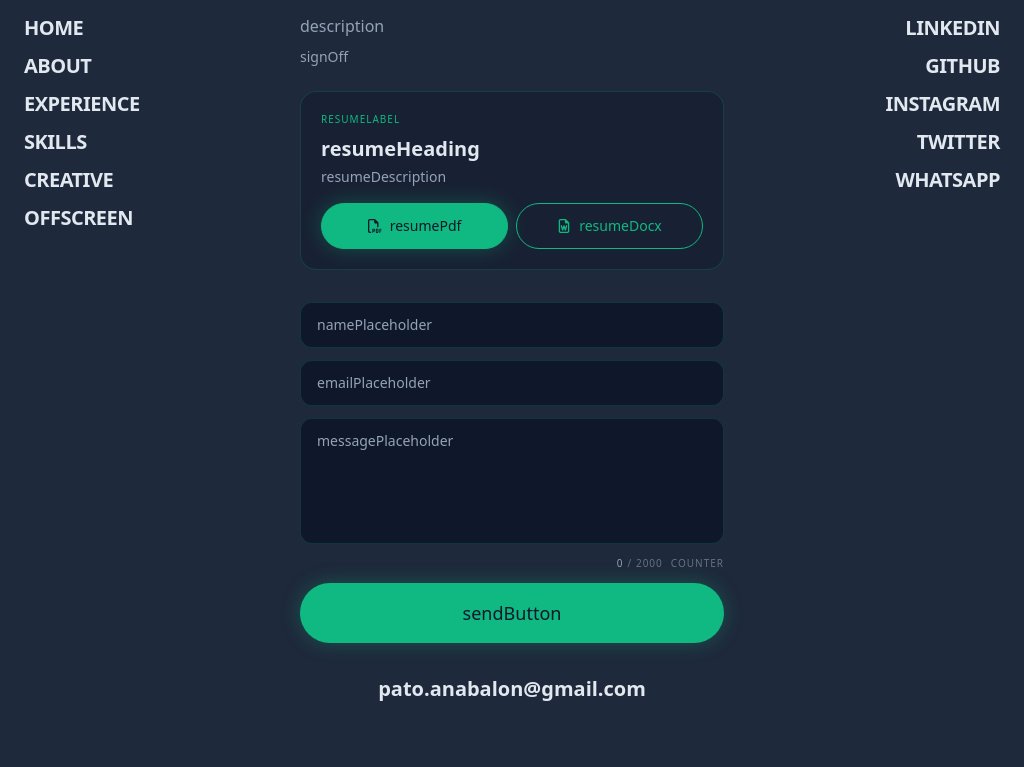
Test: ContactSection › should clear inline errors when the user starts editing the fields again
This screenshot has width=1024, height=767.
(page scrolled)
Step 1. Type "invalid" into the field with test id "contact-input-email" → (512, 383), box [300,360,724,406]
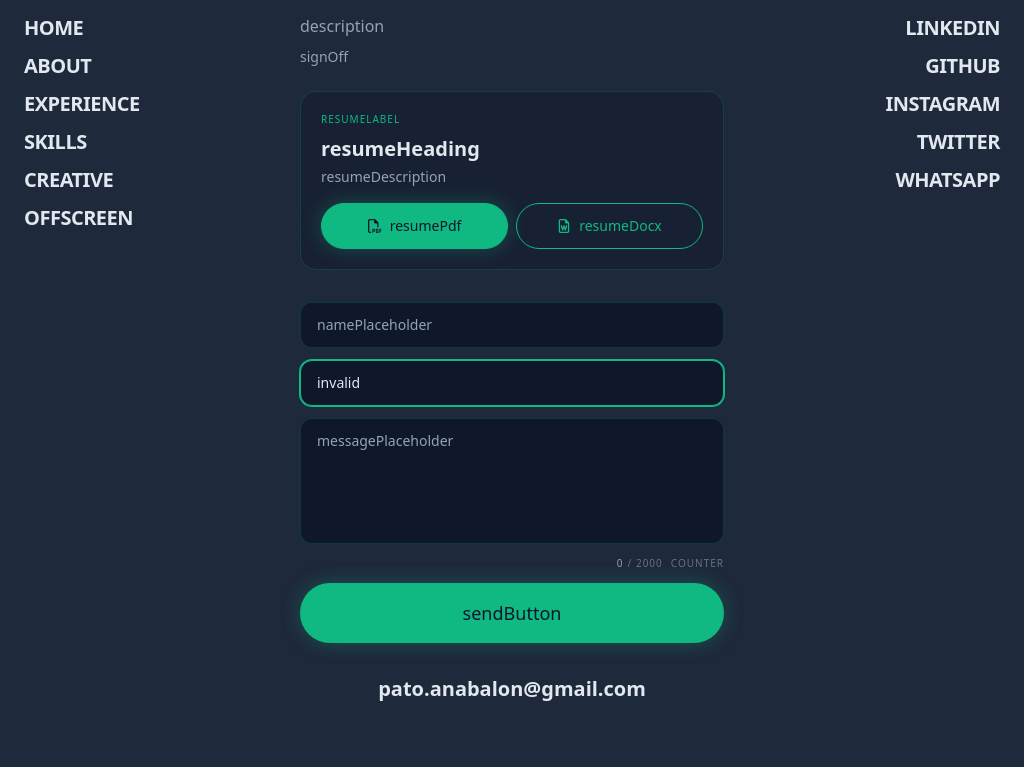
Step 2. Press Tab
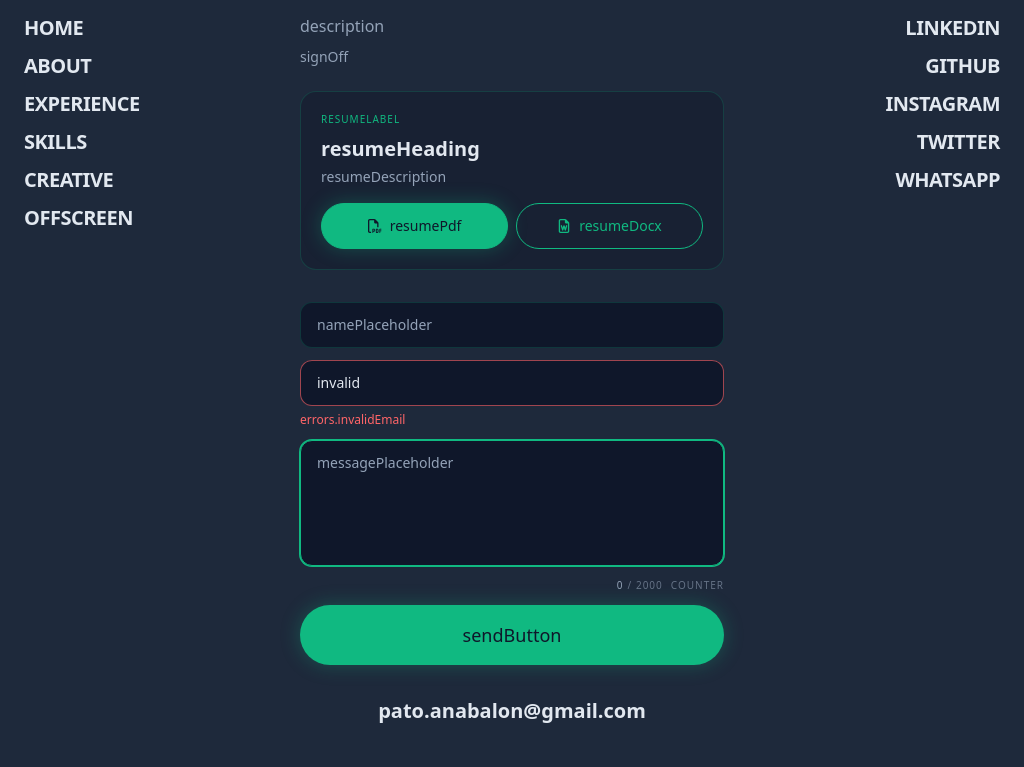
Expected: the text "errors.invalidEmail" is shown, [300,411,405,428]
Step 3. Type "valid@example.com" into the field with test id "contact-input-email" → (512, 383), box [300,360,724,406]
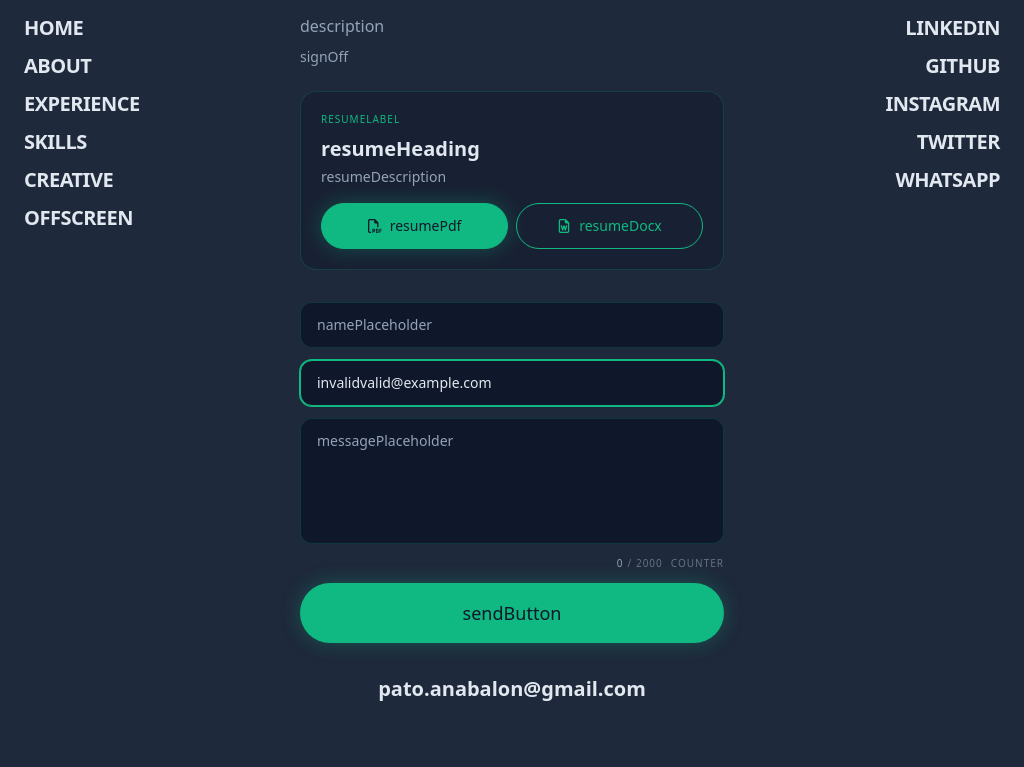
Expected: the text "errors.invalidEmail" is gone
